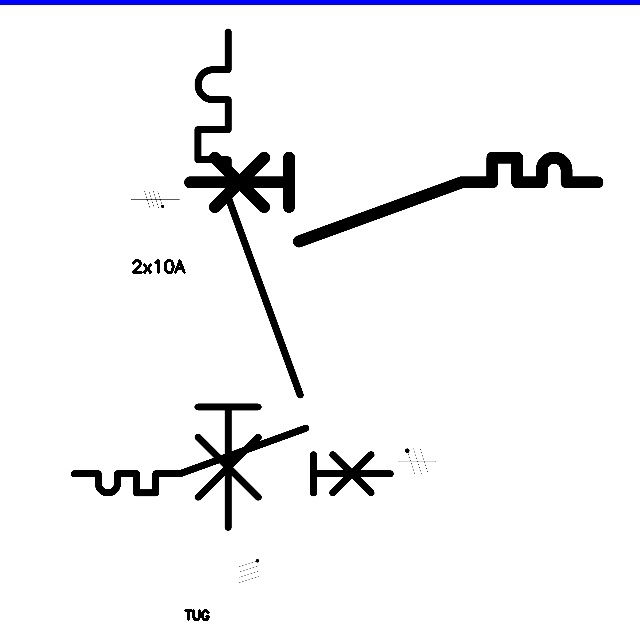interruptor_termomagnetico: (185, 19, 312, 540), (179, 147, 607, 252), (66, 420, 399, 501)
